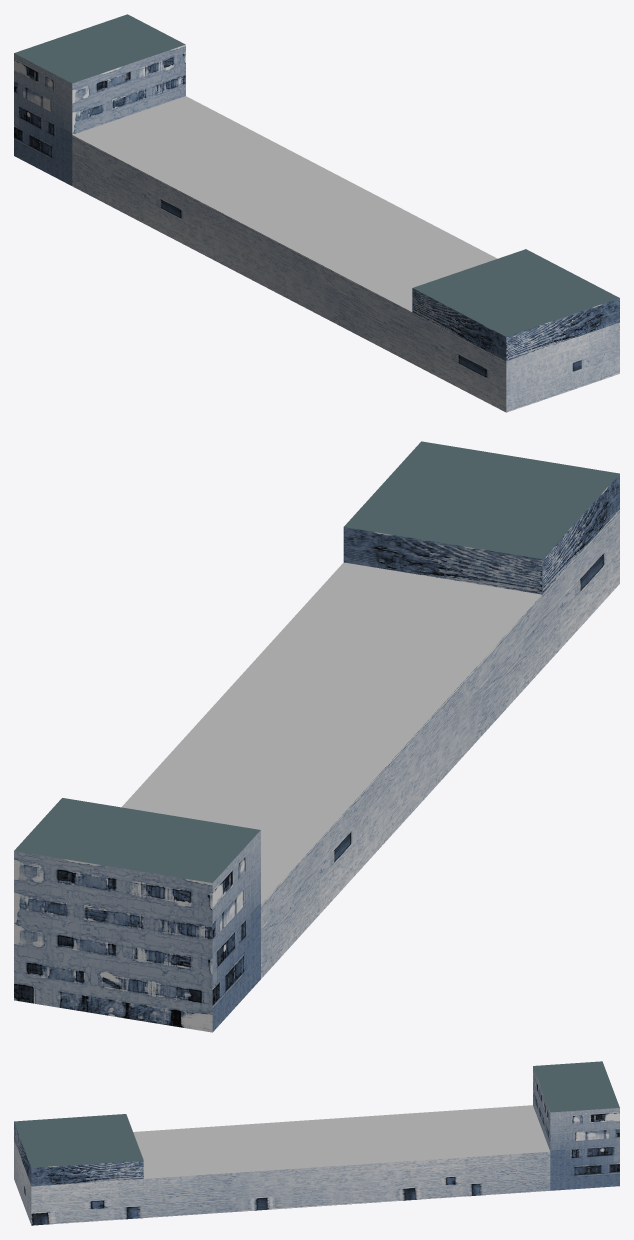
Rendered from 1Georg-Schumann-Str7a.gltf.
3 renders of one model, top to bottom at view 1: azimuth 30°, elevation 25°; view 2: azimuth 150°, elevation 25°; view 3: azimuth 270°, elevation 25°, orthographic. The views are drawn at different scales.
Parts seen in each view (by area): view 1: Dach.1; view 2: Dach.1; view 3: Dach.1.
Boxes of the visible parts, box(x1,y1,x2,y2) form: Dach.1: box(14, 14, 619, 412); Dach.1: box(14, 441, 619, 1032); Dach.1: box(14, 1061, 619, 1225).
Size of the model in its own units: 44.73 by 19 by 133.
Materials: 8 (6 with a texture image).
